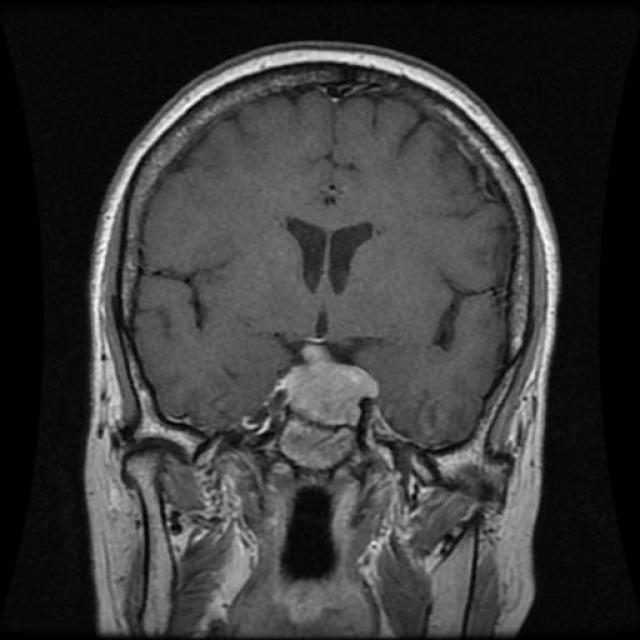Brain-Tumor: (260, 338, 390, 444)
